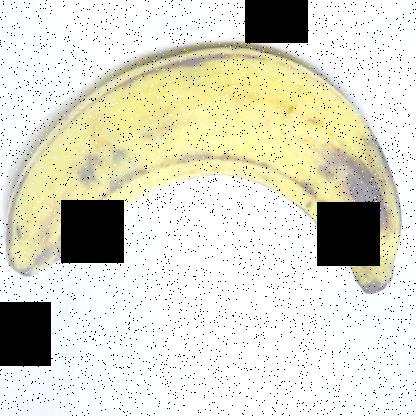ripe: (1, 27, 409, 315)
